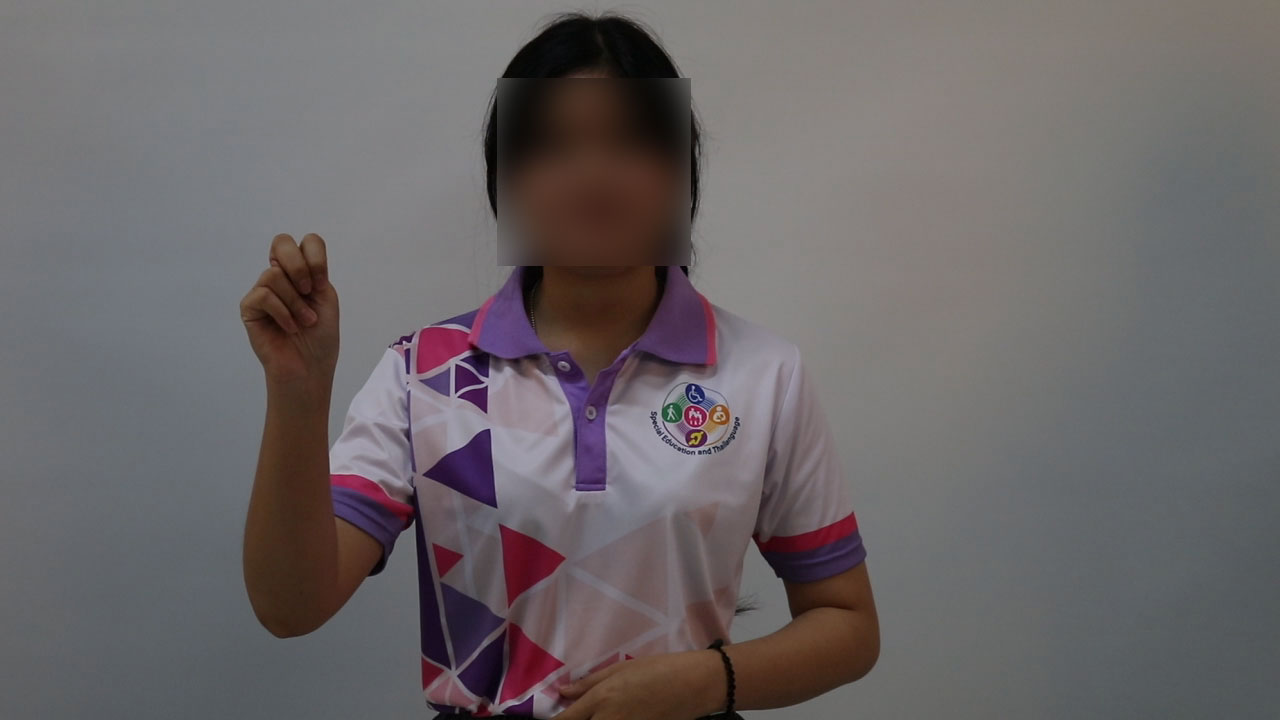nor: (232, 223, 362, 405)
